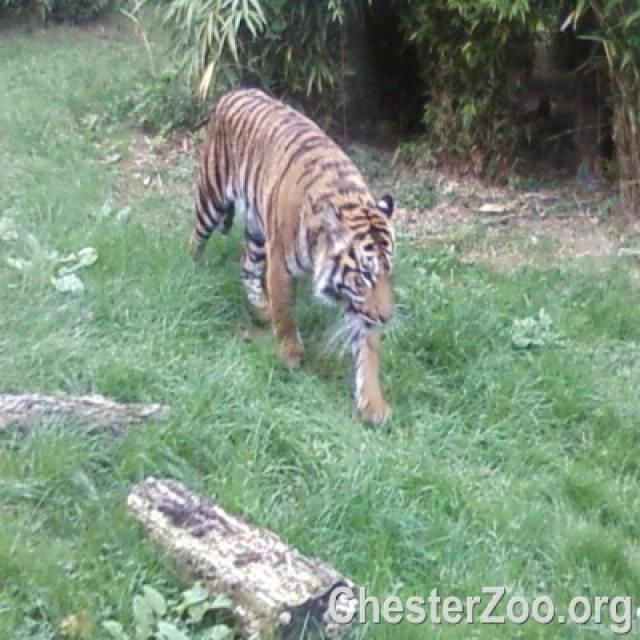Tiger: (190, 88, 394, 422)
